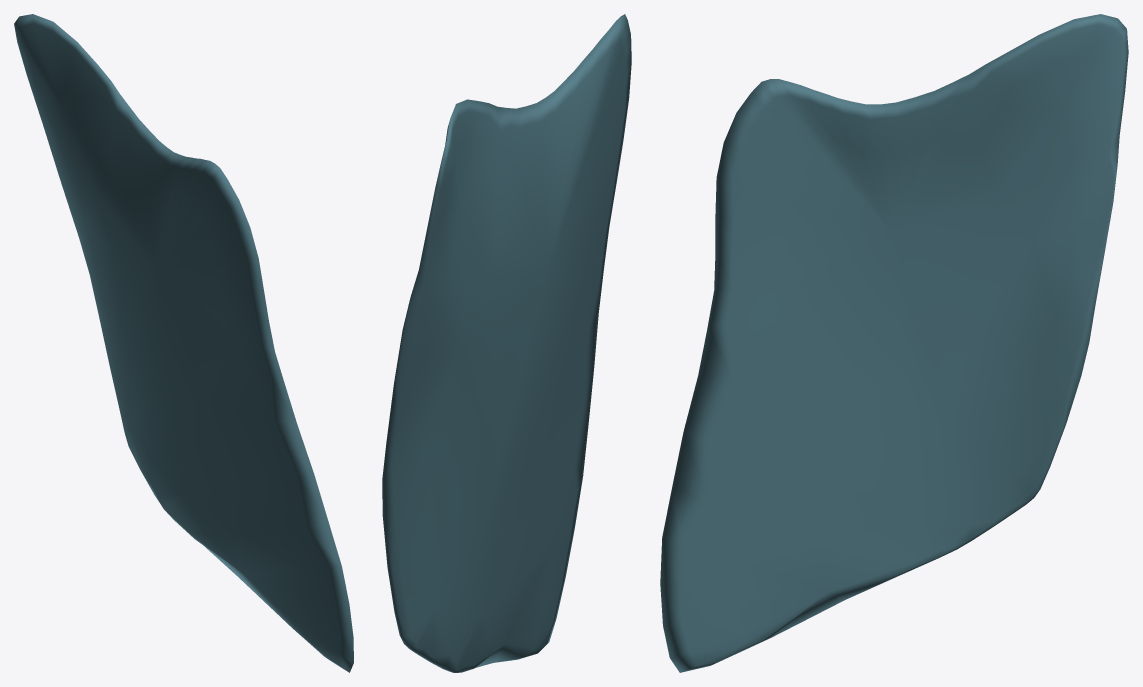
File: Masseter_on_ramus_of_mandible.r_Generated_Mesh_From_X3D.4518.glb
3 views of the same model, side by side, from view 1: azimuth 30°, elevation 25°; view 2: azimuth 150°, elevation 25°; view 3: azimuth 270°, elevation 25° (orthographic). The views are drawn at different scales.
Parts seen in each view (by area): view 1: Masseter_on_ramus_of_mandible.r_Generated_Mesh_From_X3D.4518; view 2: Masseter_on_ramus_of_mandible.r_Generated_Mesh_From_X3D.4518; view 3: Masseter_on_ramus_of_mandible.r_Generated_Mesh_From_X3D.4518.
Part boxes in pixels (x1,y1,x2,y2): Masseter_on_ramus_of_mandible.r_Generated_Mesh_From_X3D.4518: (14,14,353,672); Masseter_on_ramus_of_mandible.r_Generated_Mesh_From_X3D.4518: (382,14,631,672); Masseter_on_ramus_of_mandible.r_Generated_Mesh_From_X3D.4518: (660,14,1128,672).
Bounding box in the file's own units: 0.0122 × 0.0491 × 0.0351.
